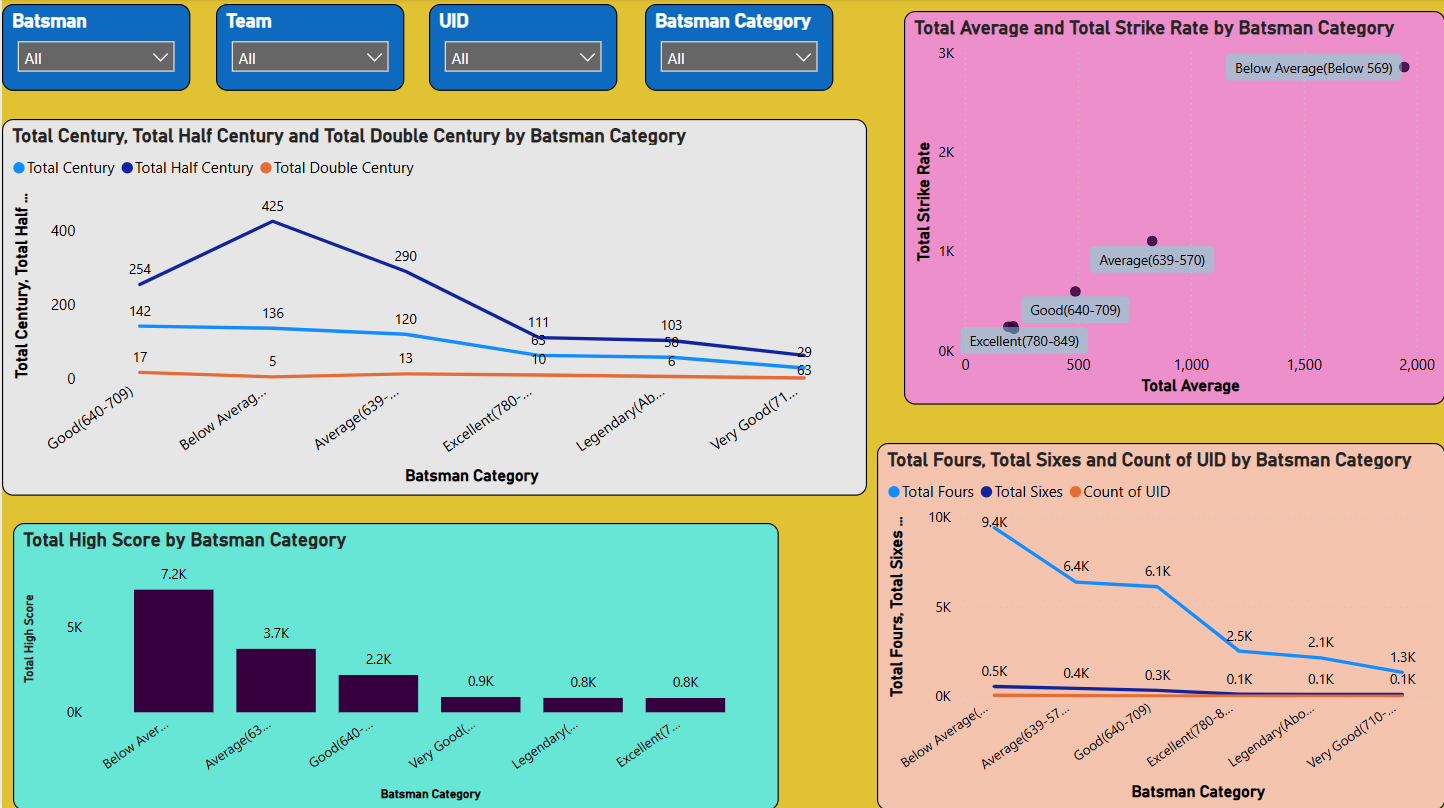

This screenshot's page, from the dashboard's own definition file:
{"tool":"powerbi","page":{"name":"Category Analysis by Score","canvas":[1280,720],"ordinal":7},"visuals":[{"type":"lineChart","fields":{"Category":["top100batsman.Batsman Category"],"Y":["Sum(top100batsman.century)","Sum(top100batsman.half_century)","Sum(top100batsman.double_century)"]},"box":[0,106,767.4,333.6],"z":0},{"type":"columnChart","fields":{"Category":["top100batsman.Batsman Category"],"Y":["Sum(top100batsman.high_score)"]},"box":[9.7,464.9,678.9,254.8],"z":1000},{"type":"scatterChart","fields":{"Category":["top100batsman.Batsman Category"],"X":["Sum(top100batsman.average)"],"Y":["Sum(top100batsman.strike_rate)"]},"box":[799.5,10.7,479.5,349.2],"z":2000},{"type":"slicer","title":"Team","fields":{"Values":["top100batsman.team"]},"box":[189.7,4.9,167.3,76.8],"z":3000},{"type":"slicer","title":"Batsman","fields":{"Values":["top100batsman.batsman"]},"box":[0,4.9,167.3,76.8],"z":4000},{"type":"slicer","title":"UID","fields":{"Values":["top100batsman.UID"]},"box":[378.4,4.9,167.3,76.8],"z":5000},{"type":"slicer","title":"Batsman Category","fields":{"Values":["top100batsman.Batsman Category"]},"box":[570,4.9,167.3,76.8],"z":6000},{"type":"lineChart","fields":{"Category":["top100batsman.Batsman Category"],"Y":["Sum(top100batsman.fours)","Sum(top100batsman.sixes)","CountNonNull(top100batsman.UID)"]},"box":[776.2,393.9,503.8,325.8],"z":7000}]}

Visuals, with their boxes in screenshot pixels (x1, y1, x2, y2), scaled from the page's 1280x720 canvas onto the 1444x808 screenshot:
lineChart - top100batsman.Batsman Category x Sum(top100batsman.century): (0,119,866,493)
columnChart - top100batsman.Batsman Category x Sum(top100batsman.high_score): (11,522,777,807)
scatterChart - top100batsman.Batsman Category x Sum(top100batsman.average): (902,12,1443,404)
"Team" slicer: (214,5,403,92)
"Batsman" slicer: (0,5,189,92)
"UID" slicer: (427,5,616,92)
"Batsman Category" slicer: (643,5,832,92)
lineChart - top100batsman.Batsman Category x Sum(top100batsman.fours): (876,442,1443,807)
